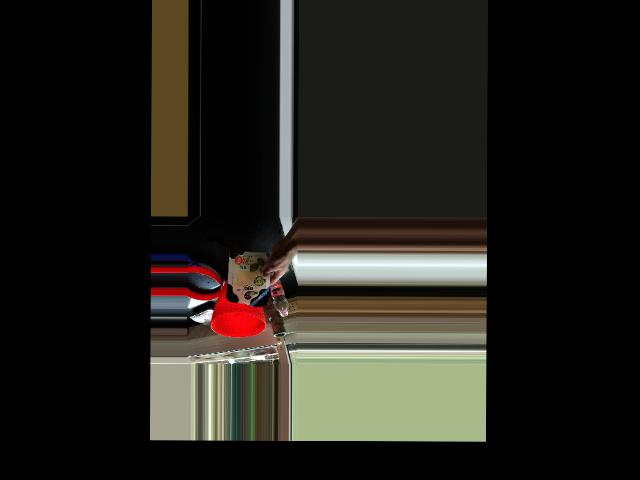cheese: (226, 255, 280, 307)
